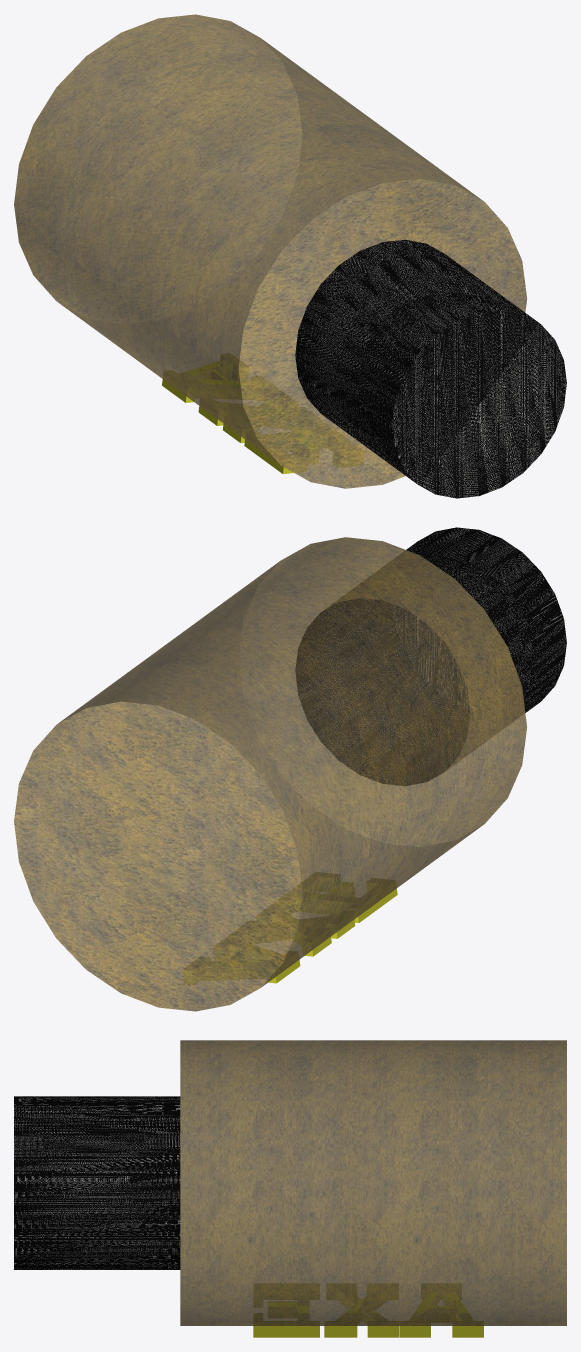
File: model_align.obj
3 renders of one model, top to bottom at view 1: azimuth 30°, elevation 25°; view 2: azimuth 150°, elevation 25°; view 3: azimuth 270°, elevation 25°, orthographic. The views are drawn at different scales.
Visible parts, largest first — view 1: mesh8_mesh8-geometry, mesh1_mesh1-geometry, mesh3_mesh3-geometry; view 2: mesh8_mesh8-geometry, mesh1_mesh1-geometry; view 3: mesh8_mesh8-geometry, mesh1_mesh1-geometry, mesh3_mesh3-geometry, mesh2_mesh2-geometry.
Part boxes in pixels (bbox=[...]): mesh8_mesh8-geometry: bbox=[14, 14, 566, 498]; mesh1_mesh1-geometry: bbox=[162, 362, 247, 402]; mesh3_mesh3-geometry: bbox=[244, 430, 319, 474]; mesh8_mesh8-geometry: bbox=[14, 527, 566, 1011]; mesh1_mesh1-geometry: bbox=[215, 943, 300, 983]; mesh8_mesh8-geometry: bbox=[14, 1040, 566, 1325]; mesh1_mesh1-geometry: bbox=[399, 1293, 483, 1337]; mesh3_mesh3-geometry: bbox=[253, 1302, 319, 1337]; mesh2_mesh2-geometry: bbox=[324, 1298, 399, 1337].
Bounding box in the file's own units: 0.0687 × 0.0727 × 0.1323.
